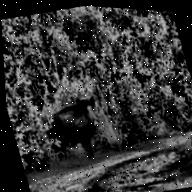boar: (45, 89, 112, 159)
